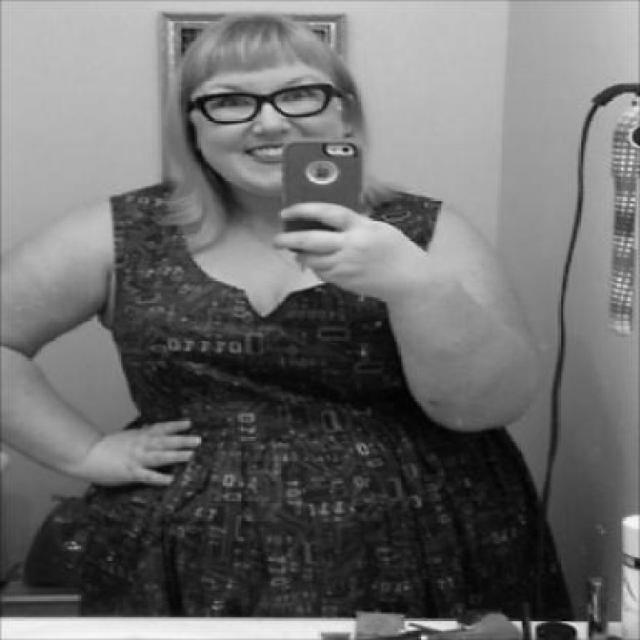fake: (276, 138, 364, 250)
